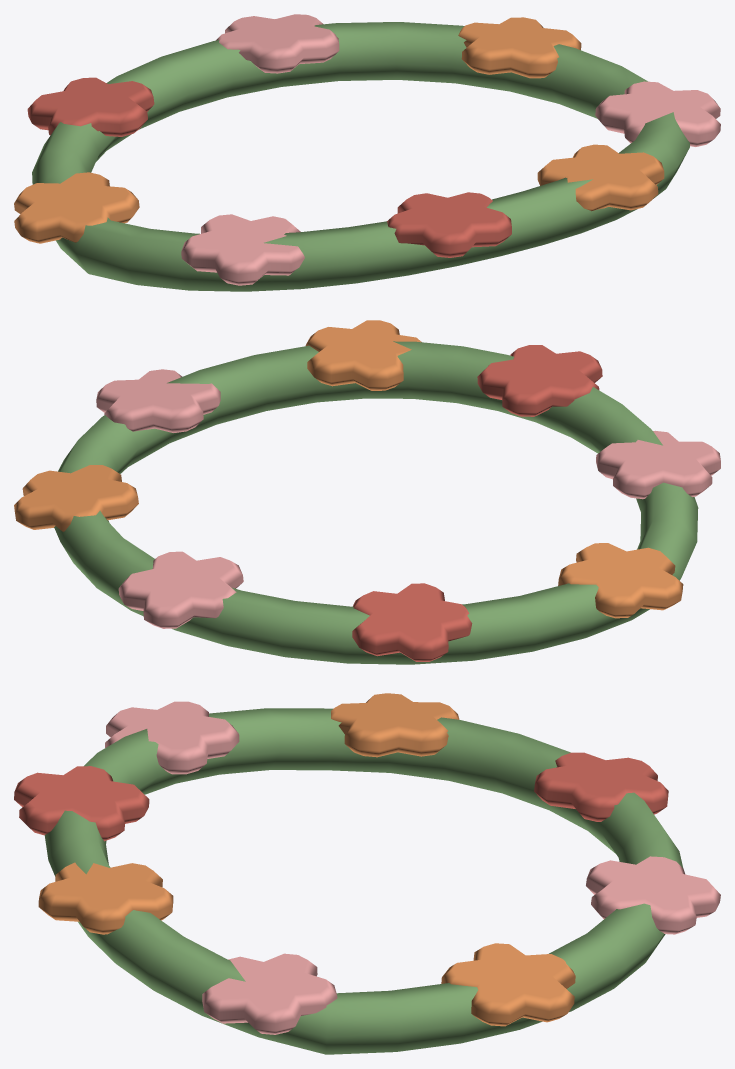
File: cute_rose_crown.glb
The picture shows the model from 3 angles, top to bottom: view 1: azimuth 30°, elevation 25°; view 2: azimuth 150°, elevation 25°; view 3: azimuth 270°, elevation 25°; orthographic projection. The views are drawn at different scales.
Visible parts, largest first — view 1: cute_rose_crown_Head; view 2: cute_rose_crown_Head; view 3: cute_rose_crown_Head.
Boxes of the visible parts, left/top/right/bottom form: cute_rose_crown_Head: left=14, top=14, right=720, bottom=291; cute_rose_crown_Head: left=14, top=320, right=720, bottom=664; cute_rose_crown_Head: left=14, top=693, right=720, bottom=1054.
Bounding box in the file's own units: 0.562 × 0.0754 × 0.5018.
